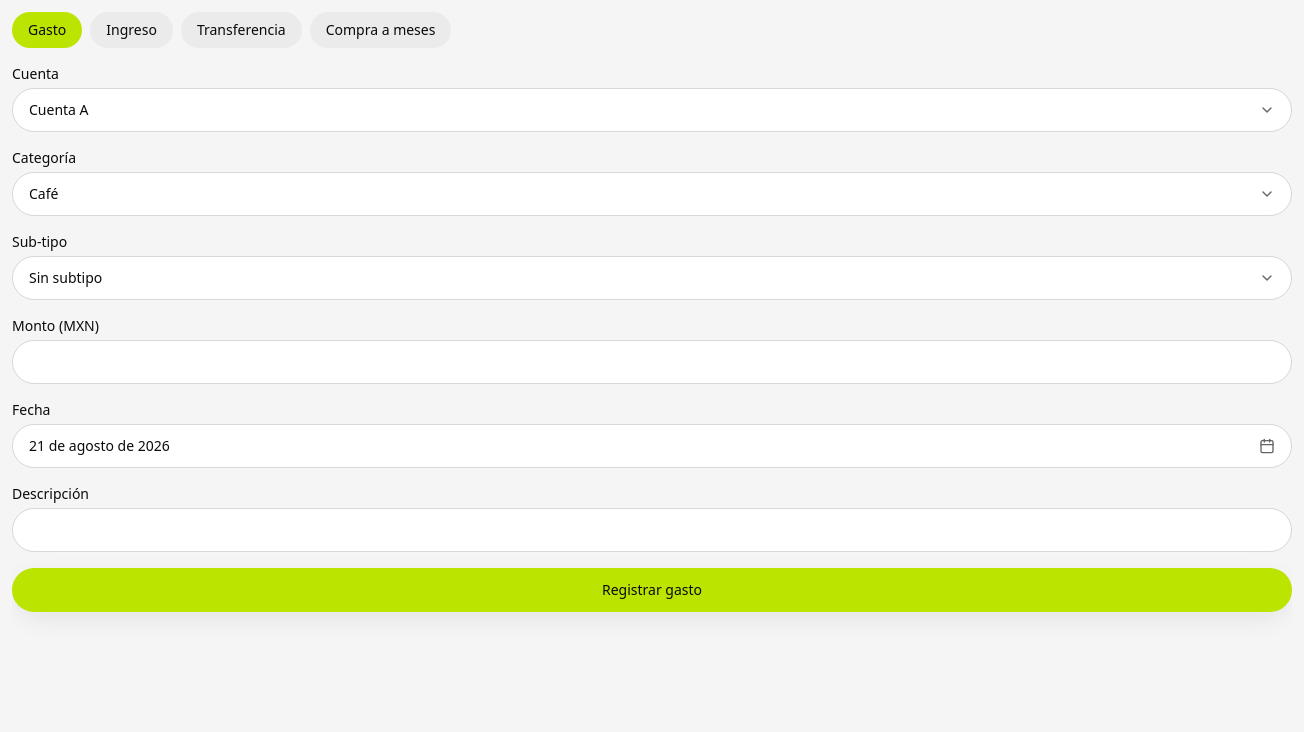
it: TransactionForm — smoke render (T-037 / C-1) › shows a guidance message instead of the form when there is no credit_card account
Click the button "Compra a meses" at {"x": 380, "y": 30}, box [310,12,451,48]
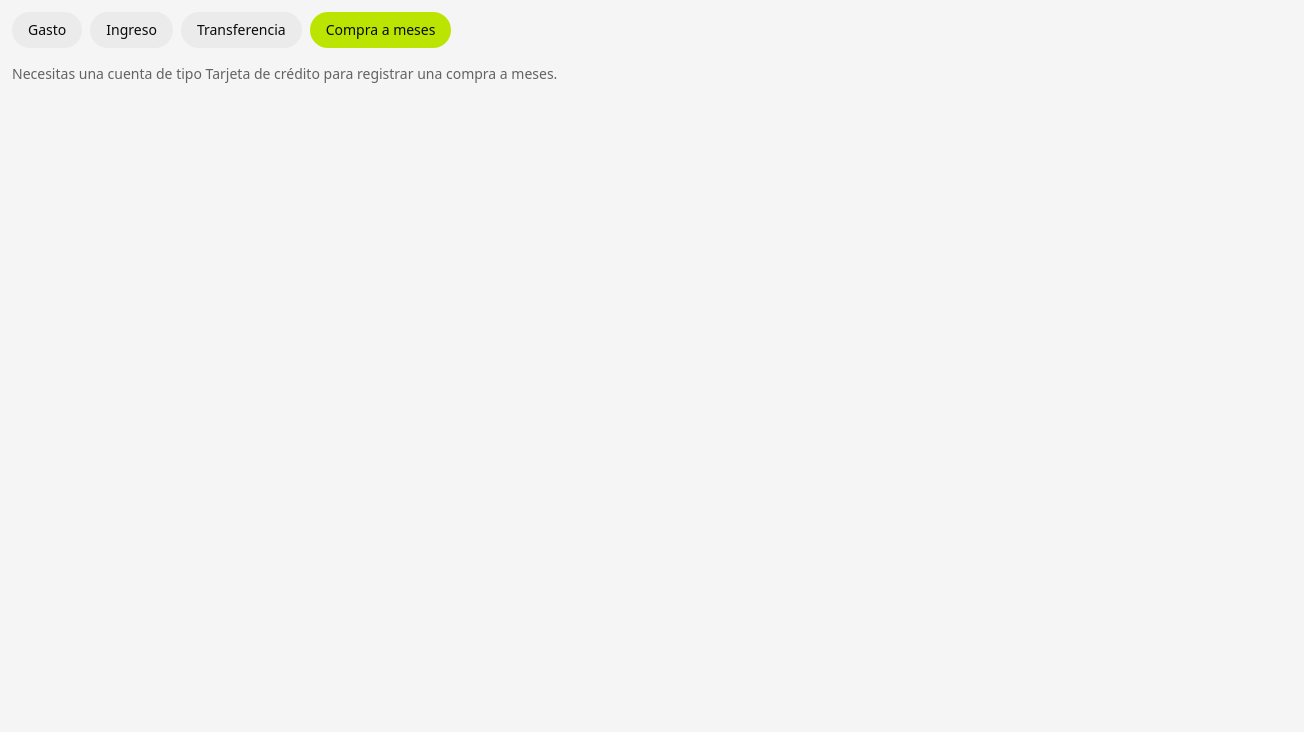
Expected: the text "Necesitas una cuenta de tipo Tarjeta de crédito" is shown, [12,64,557,83]
